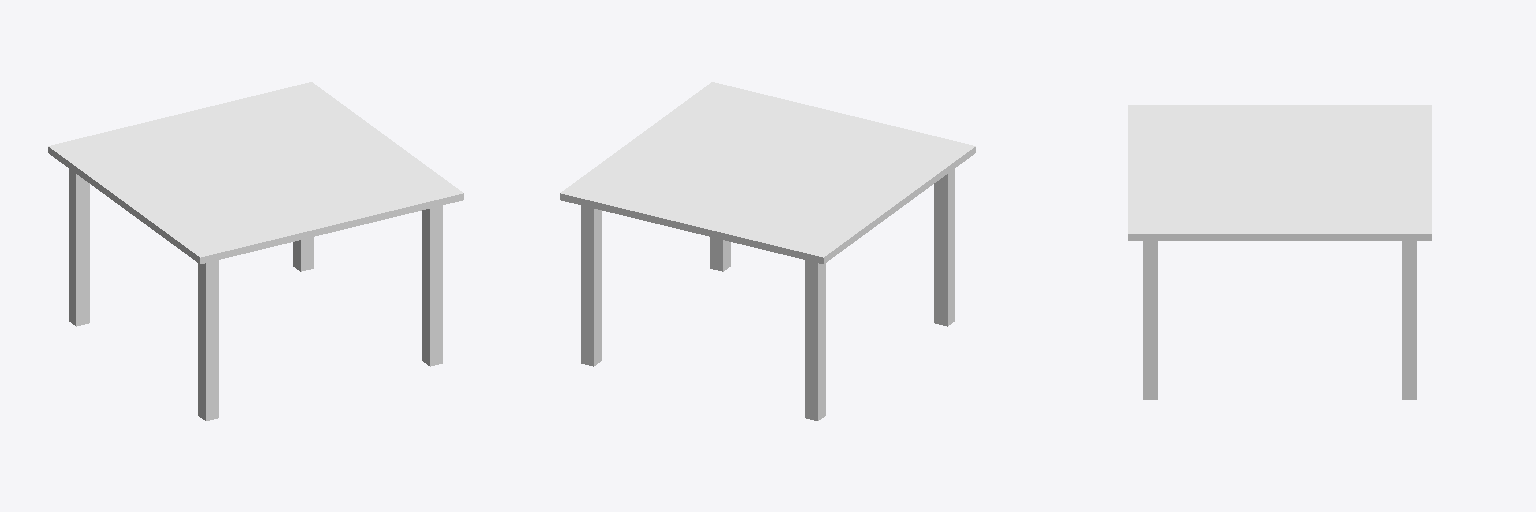
File: TableMission.obj
3 views of the same model, side by side, from view 1: azimuth 30°, elevation 25°; view 2: azimuth 150°, elevation 25°; view 3: azimuth 270°, elevation 25° (orthographic).
Parts seen in each view (by area): view 1: object 1; view 2: object 1; view 3: object 1.
Part boxes in pixels (bbox=[...]): object 1: bbox=[48, 82, 463, 420]; object 1: bbox=[560, 82, 975, 420]; object 1: bbox=[1128, 105, 1431, 399].
Size of the model in its own units: 4 by 2.5 by 4.